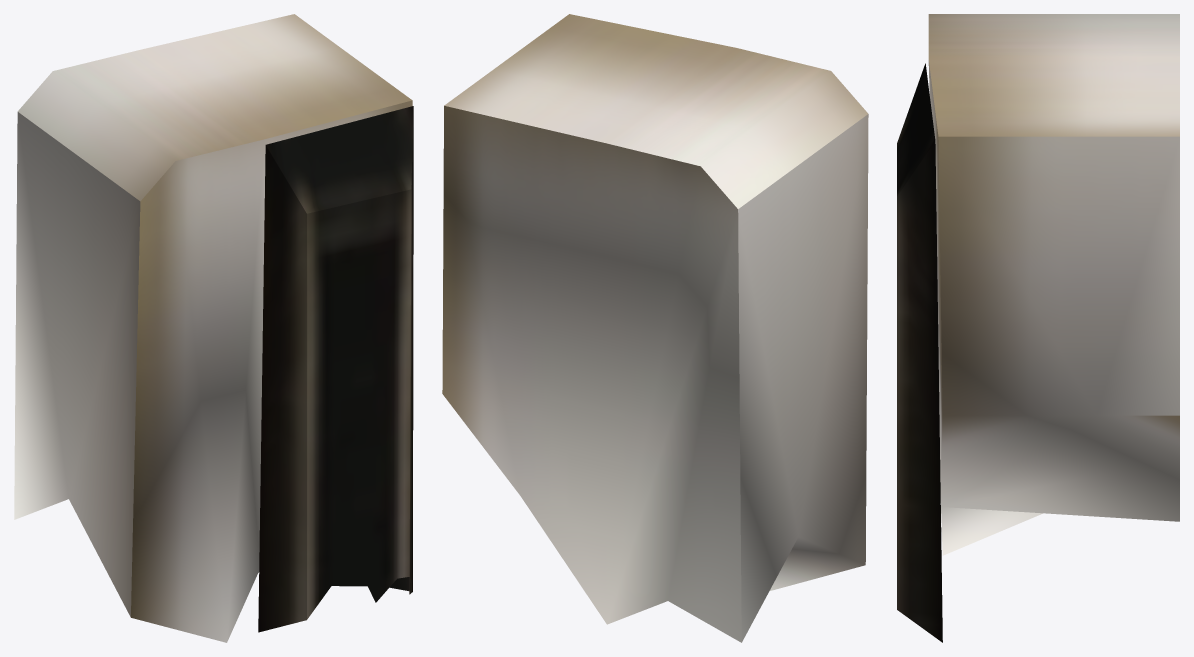
File: Piano_T.fbx
3 views of the same model, side by side, from view 1: azimuth 30°, elevation 25°; view 2: azimuth 150°, elevation 25°; view 3: azimuth 270°, elevation 25° (orthographic). The views are drawn at different scales.
Visible parts, largest first — view 1: Piano_T; view 2: Piano_T; view 3: Piano_T.
Part boxes in pixels (x1=…): Piano_T: x1=14, y1=14, x2=413, y2=642; Piano_T: x1=442, y1=14, x2=868, y2=642; Piano_T: x1=897, y1=14, x2=1179, y2=642.
Size of the model in its own units: 23.15 by 39.19 by 19.59.
